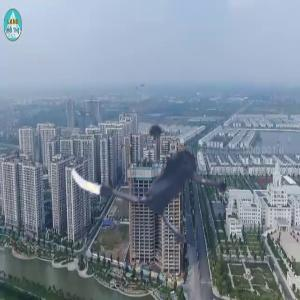drone: (69, 78, 253, 262)
